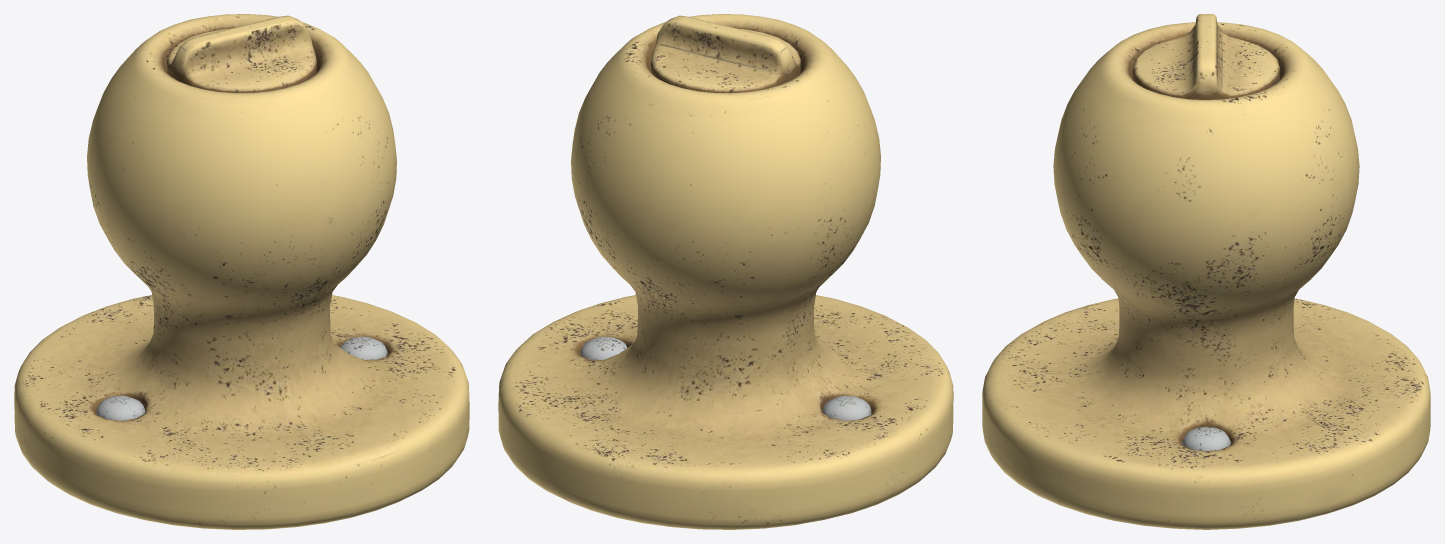
File: handle_knob.glb
3 views of the same model, side by side, from view 1: azimuth 30°, elevation 25°; view 2: azimuth 150°, elevation 25°; view 3: azimuth 270°, elevation 25° (orthographic).
Parts seen in each view (by area): view 1: Sheet_109_remesh.003_Material.001_0; view 2: Sheet_109_remesh.003_Material.001_0; view 3: Sheet_109_remesh.003_Material.001_0.
Boxes of the visible parts, x1,y1,x2,y2 form: Sheet_109_remesh.003_Material.001_0: (14,14,469,529); Sheet_109_remesh.003_Material.001_0: (498,14,953,529); Sheet_109_remesh.003_Material.001_0: (982,14,1430,529).
Size of the model in its own units: 32.27 by 31.98 by 32.26.
Materials: 1 (1 with a texture image).
